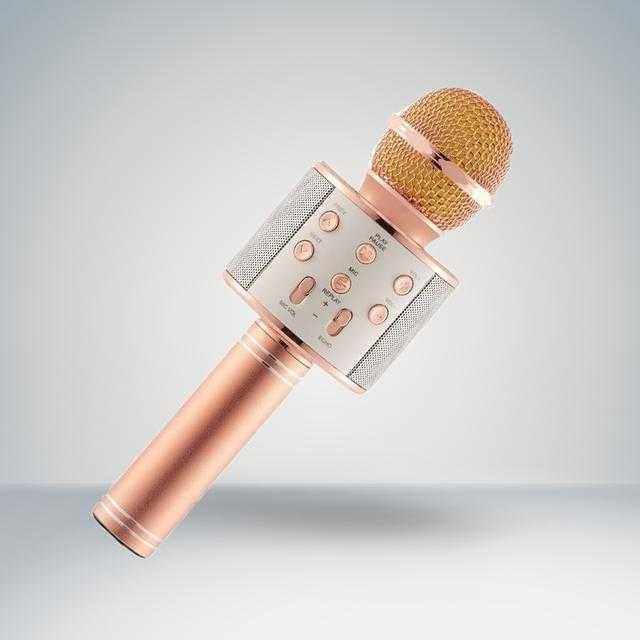microphone: (102, 90, 511, 550)
